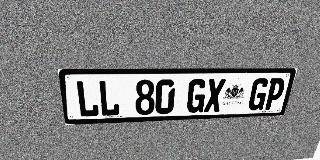0: (155, 79, 176, 114)
8: (135, 79, 156, 115)
G: (247, 78, 270, 111), (186, 79, 208, 113)
L: (75, 80, 99, 117), (98, 80, 120, 116)
P: (263, 78, 287, 110)
X: (204, 79, 226, 112)
